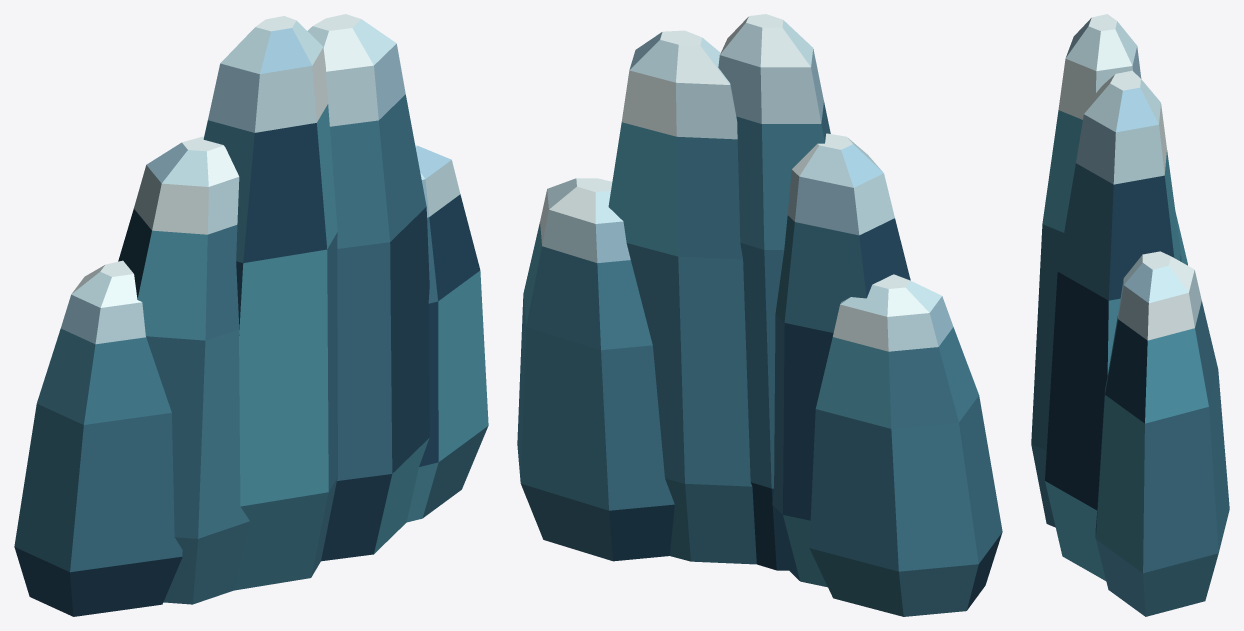
File: ice-wall.glb
The picture shows the model from 3 angles, left to right: view 1: azimuth 30°, elevation 25°; view 2: azimuth 150°, elevation 25°; view 3: azimuth 270°, elevation 25°; orthographic projection. The views are drawn at different scales.
Parts seen in each view (by area): view 1: ice-wall; view 2: ice-wall; view 3: ice-wall.
Boxes of the visible parts, x1,y1,x2,y2 form: ice-wall: [14, 14, 488, 616]; ice-wall: [517, 14, 1002, 616]; ice-wall: [1031, 14, 1229, 616].
Bounding box in the file's own units: 3.81 × 4.1 × 1.48.
